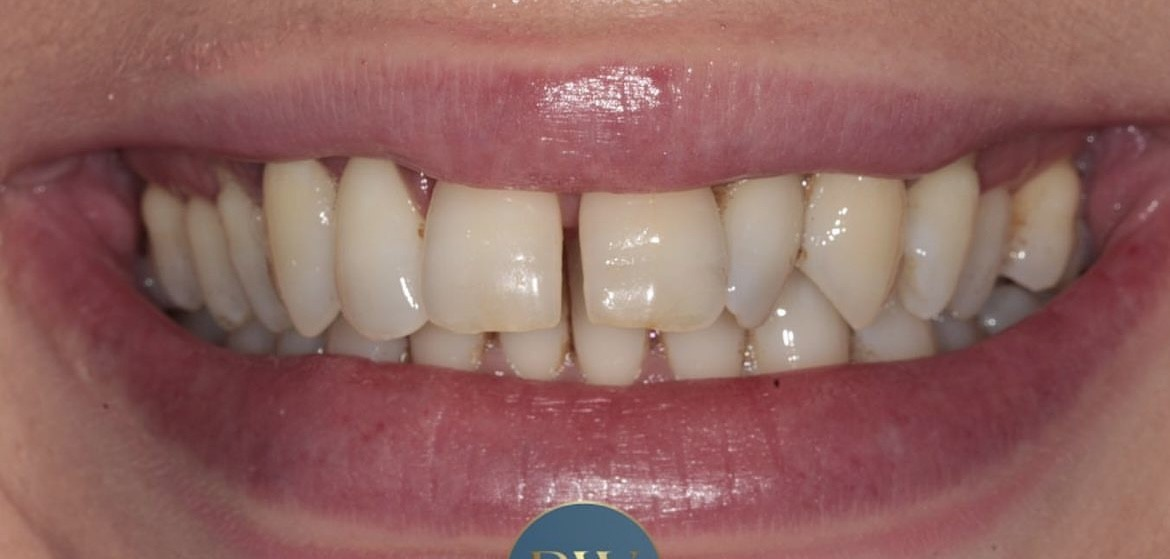UL1BC_healthy: (906, 176, 970, 318)
UL1M_mdecay: (1010, 174, 1077, 294)
ULCI_healthy: (579, 196, 726, 328)
ULC_healthy: (807, 177, 904, 328)
ULLI_healthy: (722, 179, 799, 323)
URCI_healthy: (423, 185, 562, 331)
URC_healthy: (263, 165, 334, 335)
URLI_healthy: (334, 168, 419, 336)
